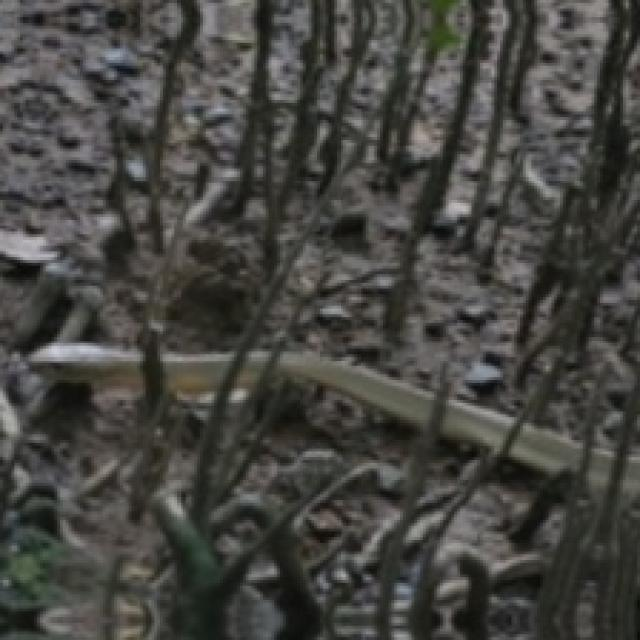king cobra: (276, 351, 432, 429), (29, 342, 140, 386), (441, 400, 512, 449), (510, 425, 580, 474), (164, 352, 232, 392), (236, 350, 269, 387), (590, 450, 610, 488), (625, 456, 640, 495)
